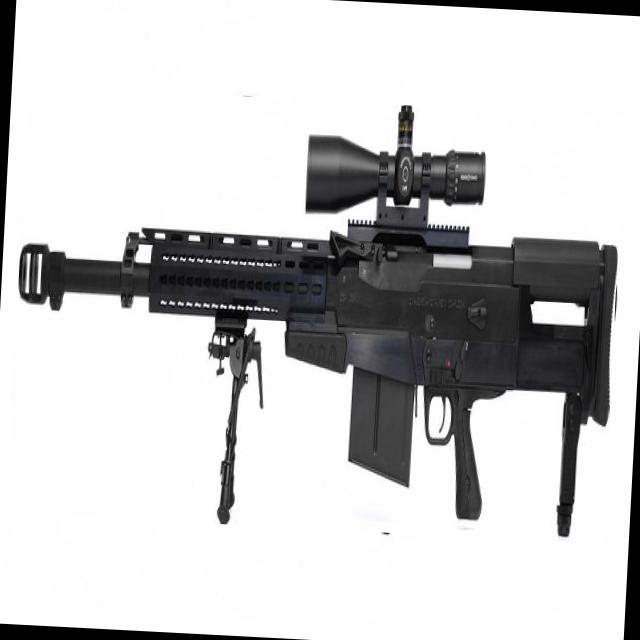Gun: (19, 106, 618, 536)
